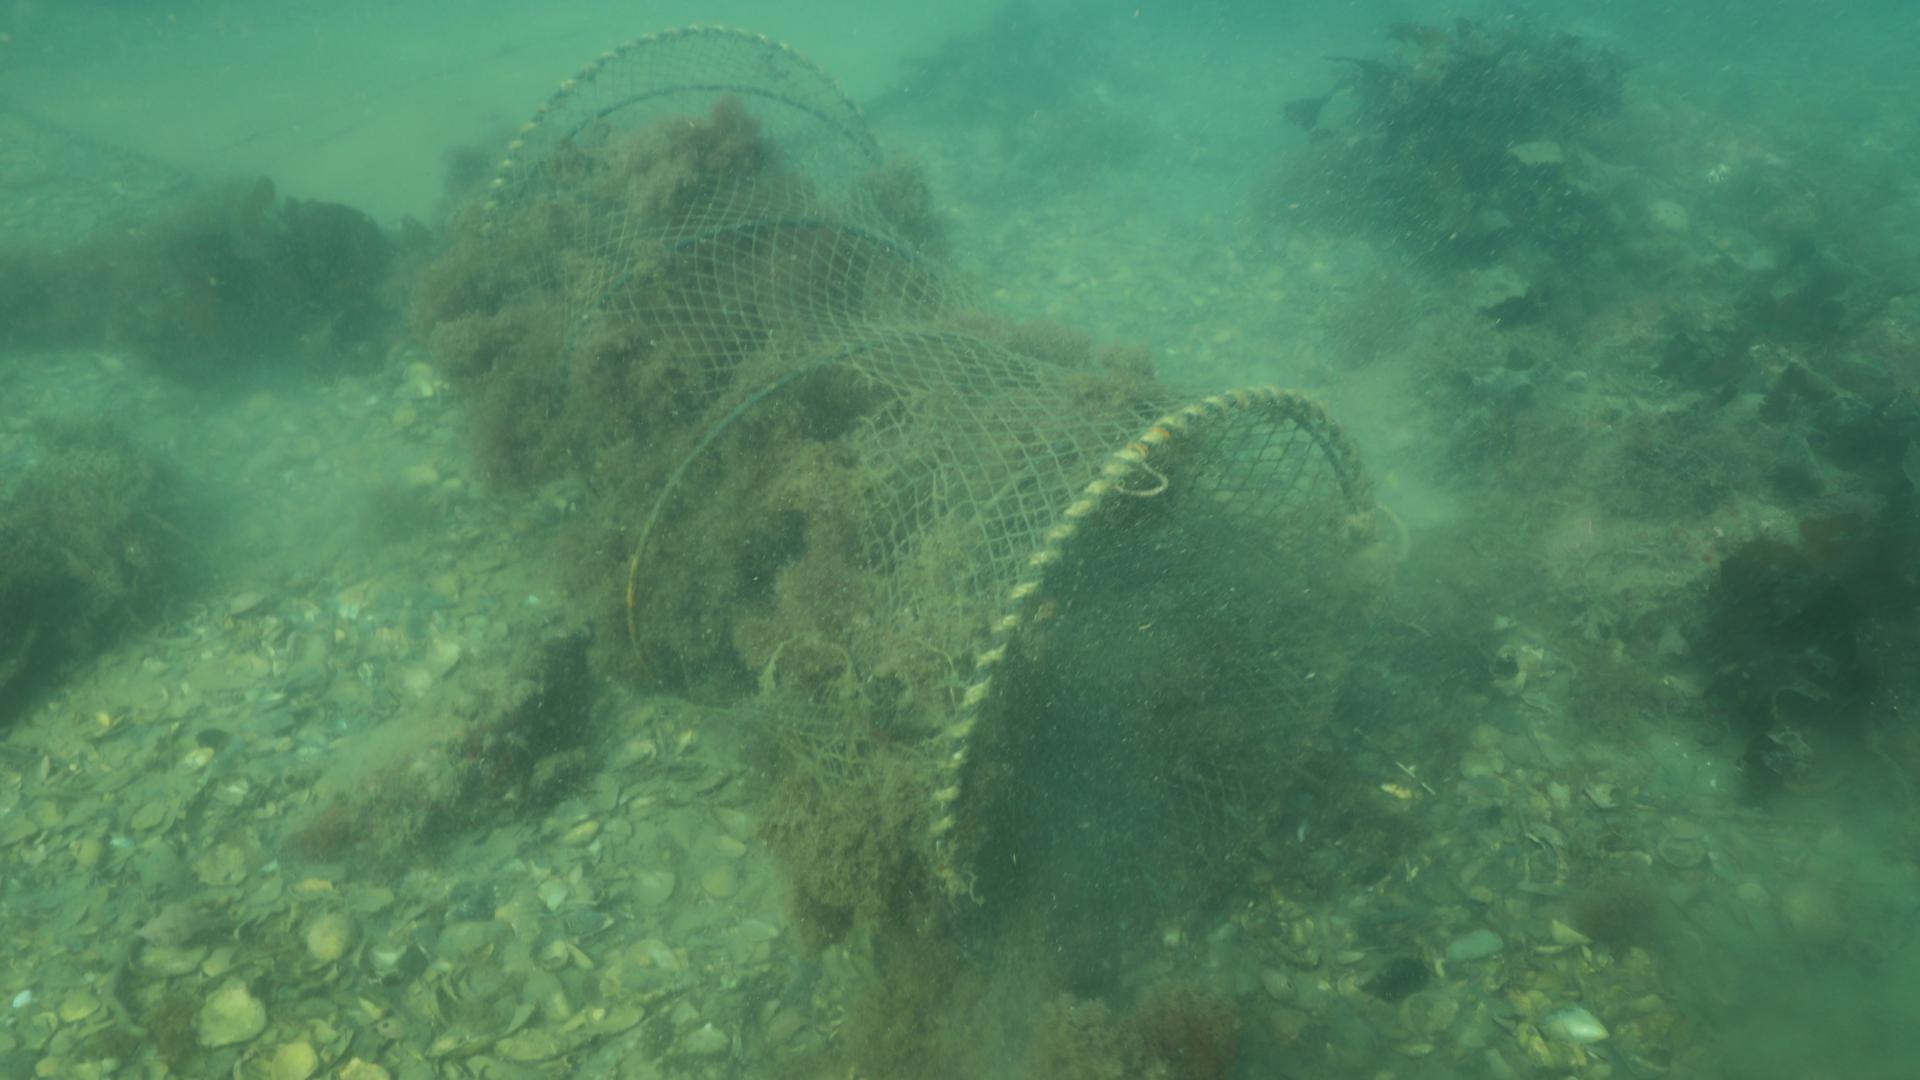spring fish trap: (442, 21, 1390, 971)
